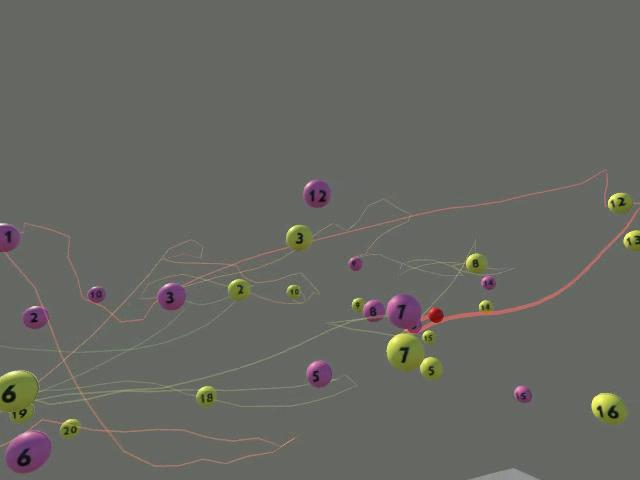ball_02_pink: (21, 305, 48, 329)
ball_02_yellow: (227, 278, 250, 301)
ball_03_pink: (156, 282, 185, 310)
ball_03_yellow: (285, 225, 312, 250)
ball_05_pink: (306, 361, 332, 387)
ball_05_yellow: (419, 357, 442, 380)
ball_06_pink: (5, 431, 51, 473)
ball_07_pink: (386, 293, 421, 329)
ball_07_yellow: (385, 332, 424, 371)
ball_08_pink: (362, 299, 385, 322)
ball_08_yellow: (465, 253, 487, 273)
ball_09_pink: (347, 256, 362, 270)
ball_09_yellow: (351, 297, 364, 312)
ball_10_pink: (86, 286, 106, 302)
ball_10_yellow: (286, 284, 300, 298)
ball_12_pink: (302, 179, 330, 207)
ball_12_yellow: (607, 192, 632, 213)
ball_13_yellow: (622, 229, 639, 250)
ball_14_pink: (480, 275, 496, 290)
ball_15_pink: (513, 385, 531, 402)
ball_15_yellow: (421, 329, 435, 344)
ball_16_yellow: (590, 392, 627, 424)
ball_18_yellow: (196, 386, 217, 406)
ball_19_yellow: (9, 403, 34, 423)
ball_20_yellow: (59, 418, 80, 438)
ball_unknown: (0, 368, 38, 412), (0, 222, 20, 252), (404, 318, 422, 333), (478, 299, 493, 311)
user_cursor: (427, 307, 443, 323)
